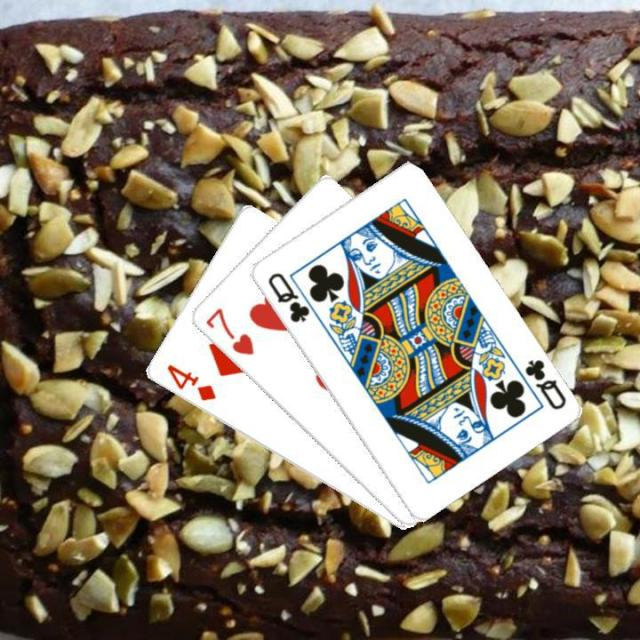4D: (162, 360, 218, 404)
7H: (201, 303, 256, 357)
QC: (520, 354, 568, 412), (263, 268, 311, 324)
